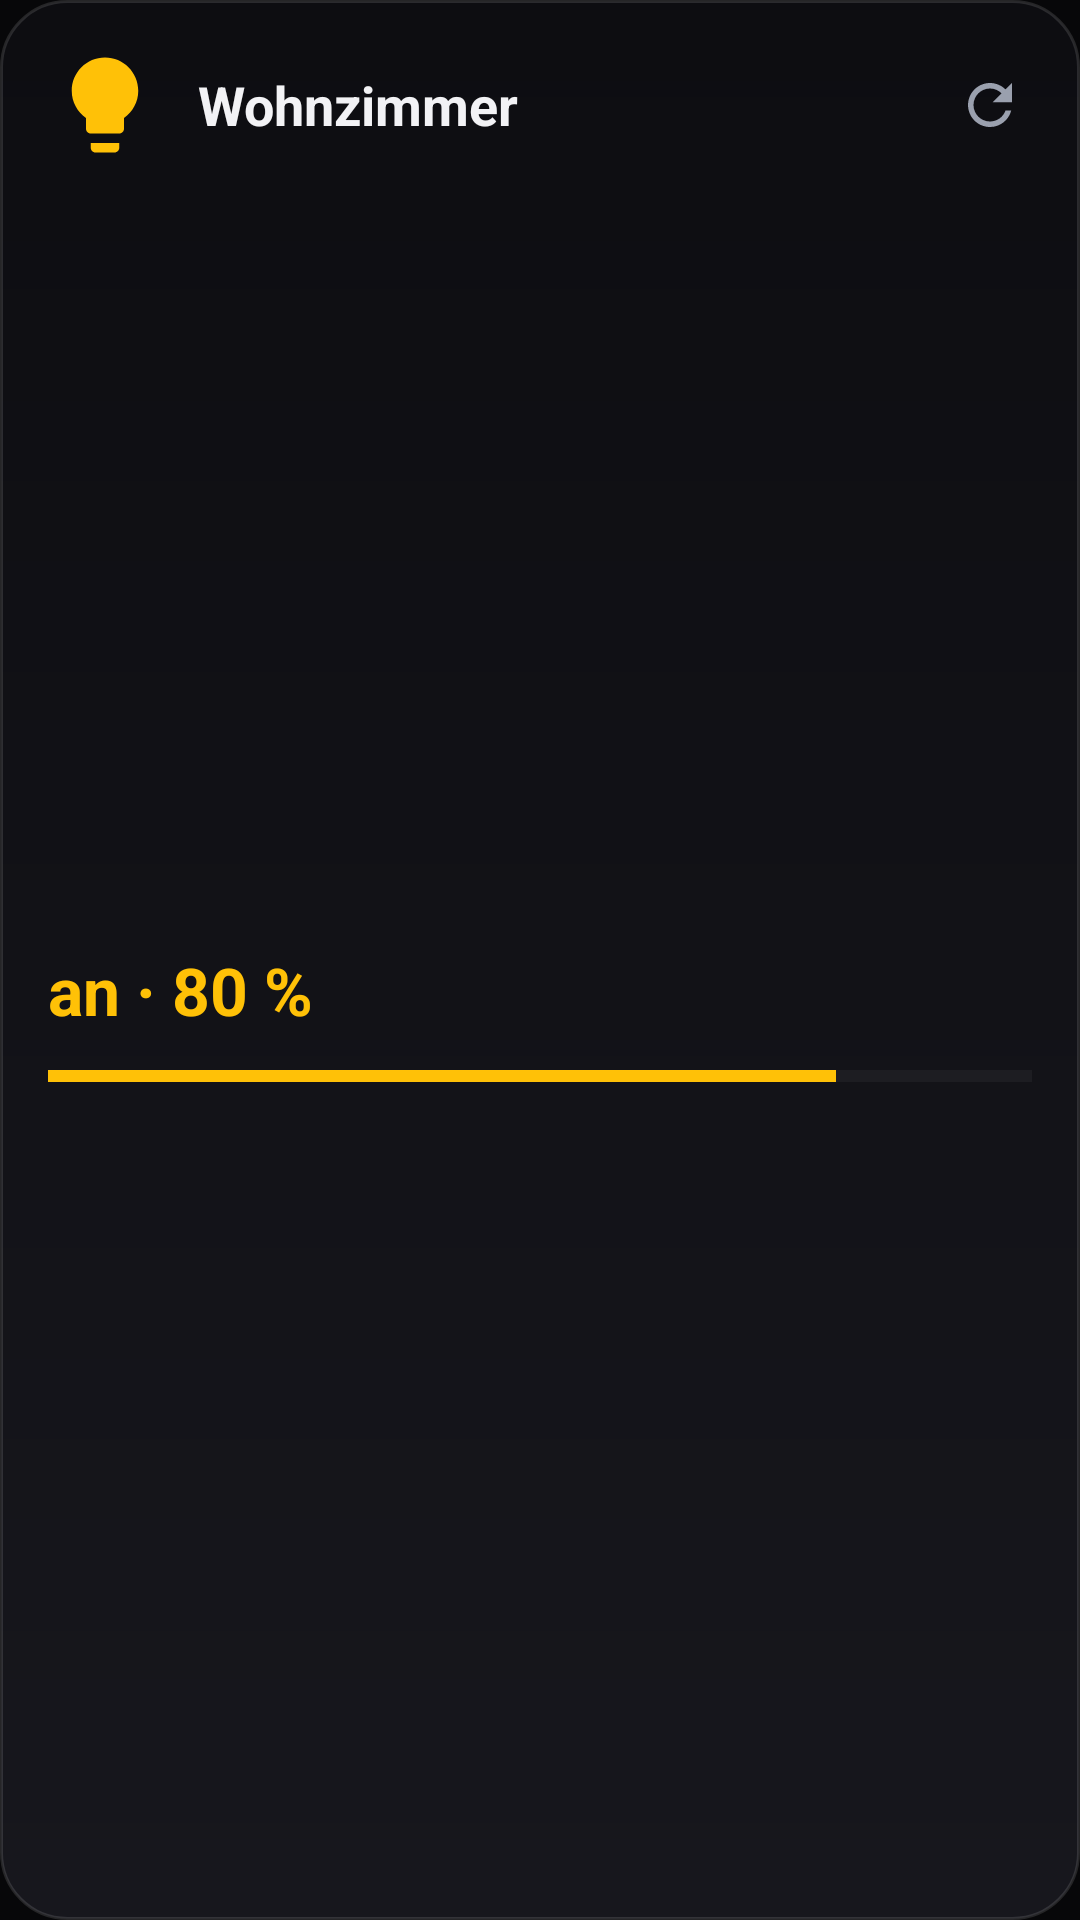

Icon click points for this 1080 × 1920 phone screenshot, format (x,y):
Aktualisieren: (990,105)
